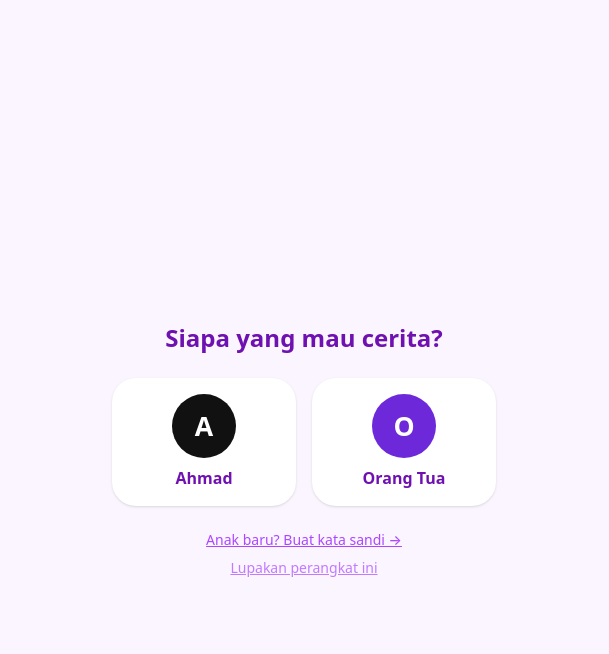
Scenario: family login (lobby-first) › cached family: tap a child + child password → ChildApp
Step 1. Click the text "Ahmad" → (204, 478), box top-left (176, 466), bottom-right (233, 490)
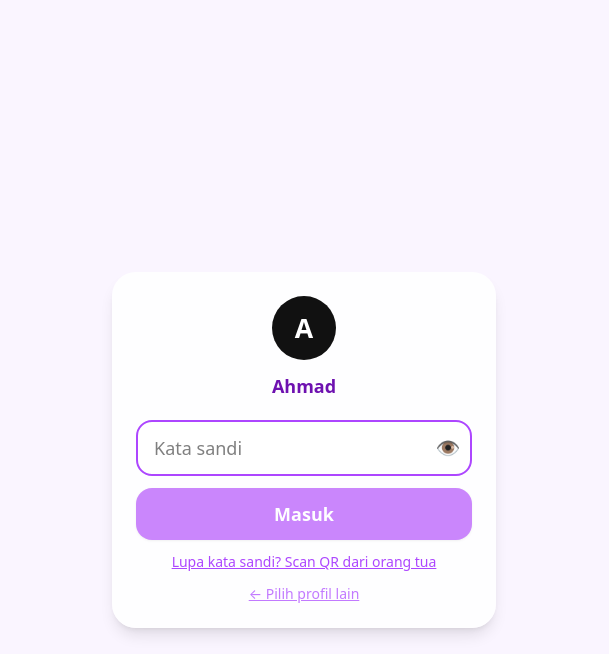
Step 2. Type "anakpass" into the password field with placeholder "Kata sandi" → (304, 448), box top-left (136, 420), bottom-right (472, 476)
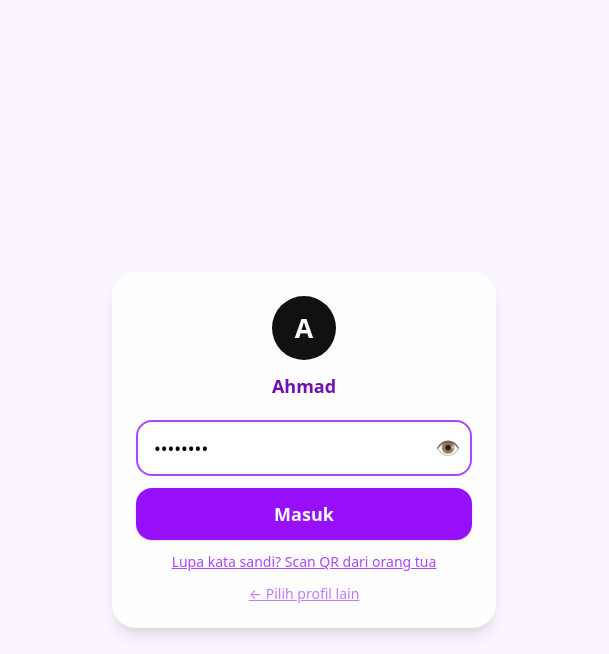
Step 3. Click the button "Masuk" → (304, 514), box top-left (136, 488), bottom-right (472, 540)
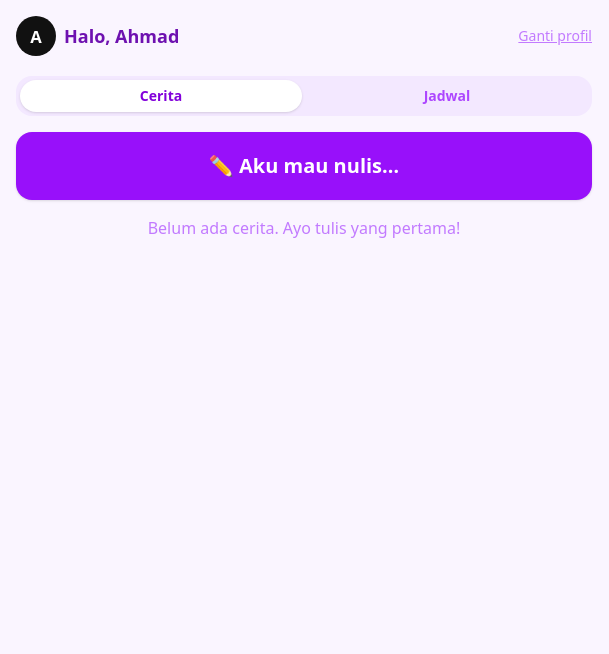
Expected: the heading "Halo, Ahmad" is shown, top-left (64, 22), bottom-right (179, 50)
